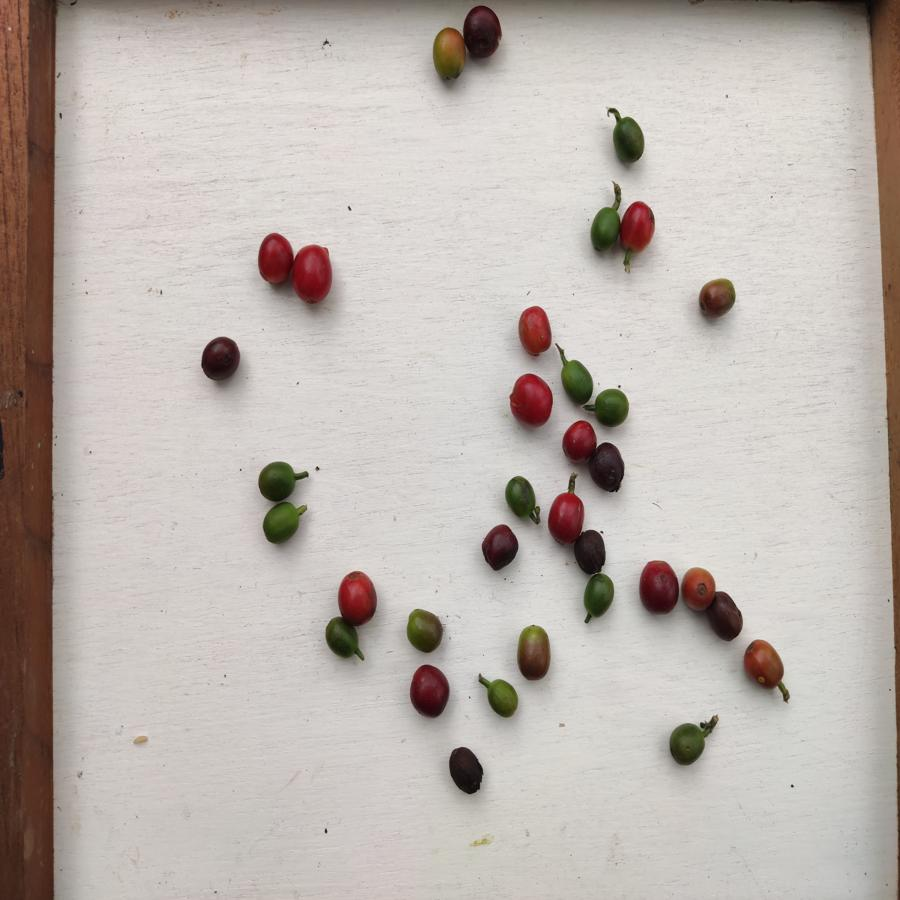Inmaduro: (254, 461, 301, 502), (260, 502, 302, 546), (611, 116, 649, 164), (324, 616, 361, 661), (669, 722, 704, 769), (581, 573, 616, 618), (559, 360, 595, 402), (486, 679, 521, 721), (594, 389, 630, 429), (589, 206, 621, 251), (502, 474, 536, 516)
Maduro: (509, 372, 557, 429), (292, 245, 335, 306), (338, 567, 376, 626), (257, 233, 294, 289), (516, 303, 552, 360), (550, 489, 585, 546), (622, 199, 656, 254), (559, 420, 596, 461)
Pinton: (741, 637, 786, 689), (516, 622, 553, 683), (404, 608, 448, 657), (431, 26, 466, 85), (699, 277, 739, 320), (680, 564, 715, 611)
Sobremaduro: (634, 559, 680, 613), (461, 6, 506, 61), (200, 334, 243, 384), (410, 664, 449, 719), (591, 439, 626, 493), (447, 745, 484, 794), (481, 524, 521, 568), (710, 590, 744, 641), (574, 531, 609, 574)
